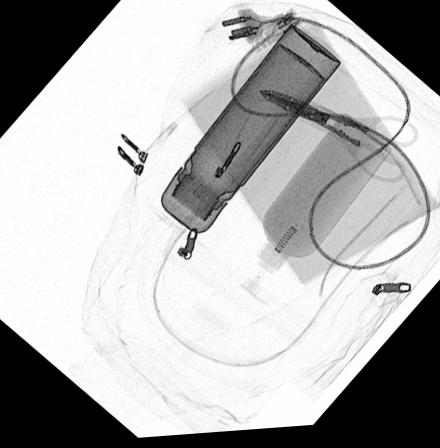Scissors: (259, 91, 416, 191)
